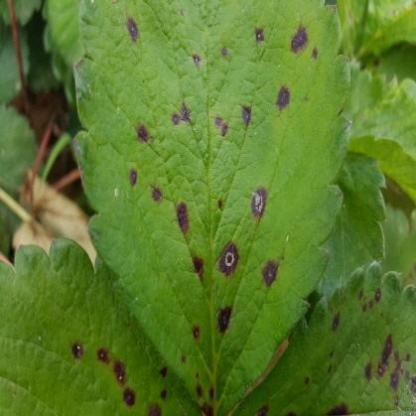Strawberry_Leaf_Spot: (69, 0, 354, 415), (0, 238, 211, 416), (228, 260, 415, 415), (356, 42, 414, 83)
